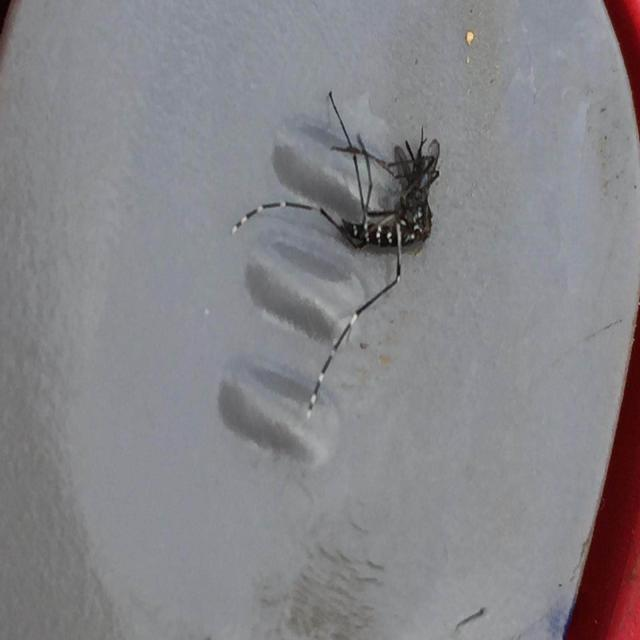albopictus: (228, 87, 449, 415)
